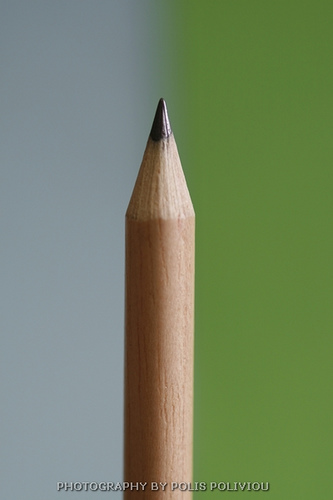pen_tip: (121, 94, 205, 237)
